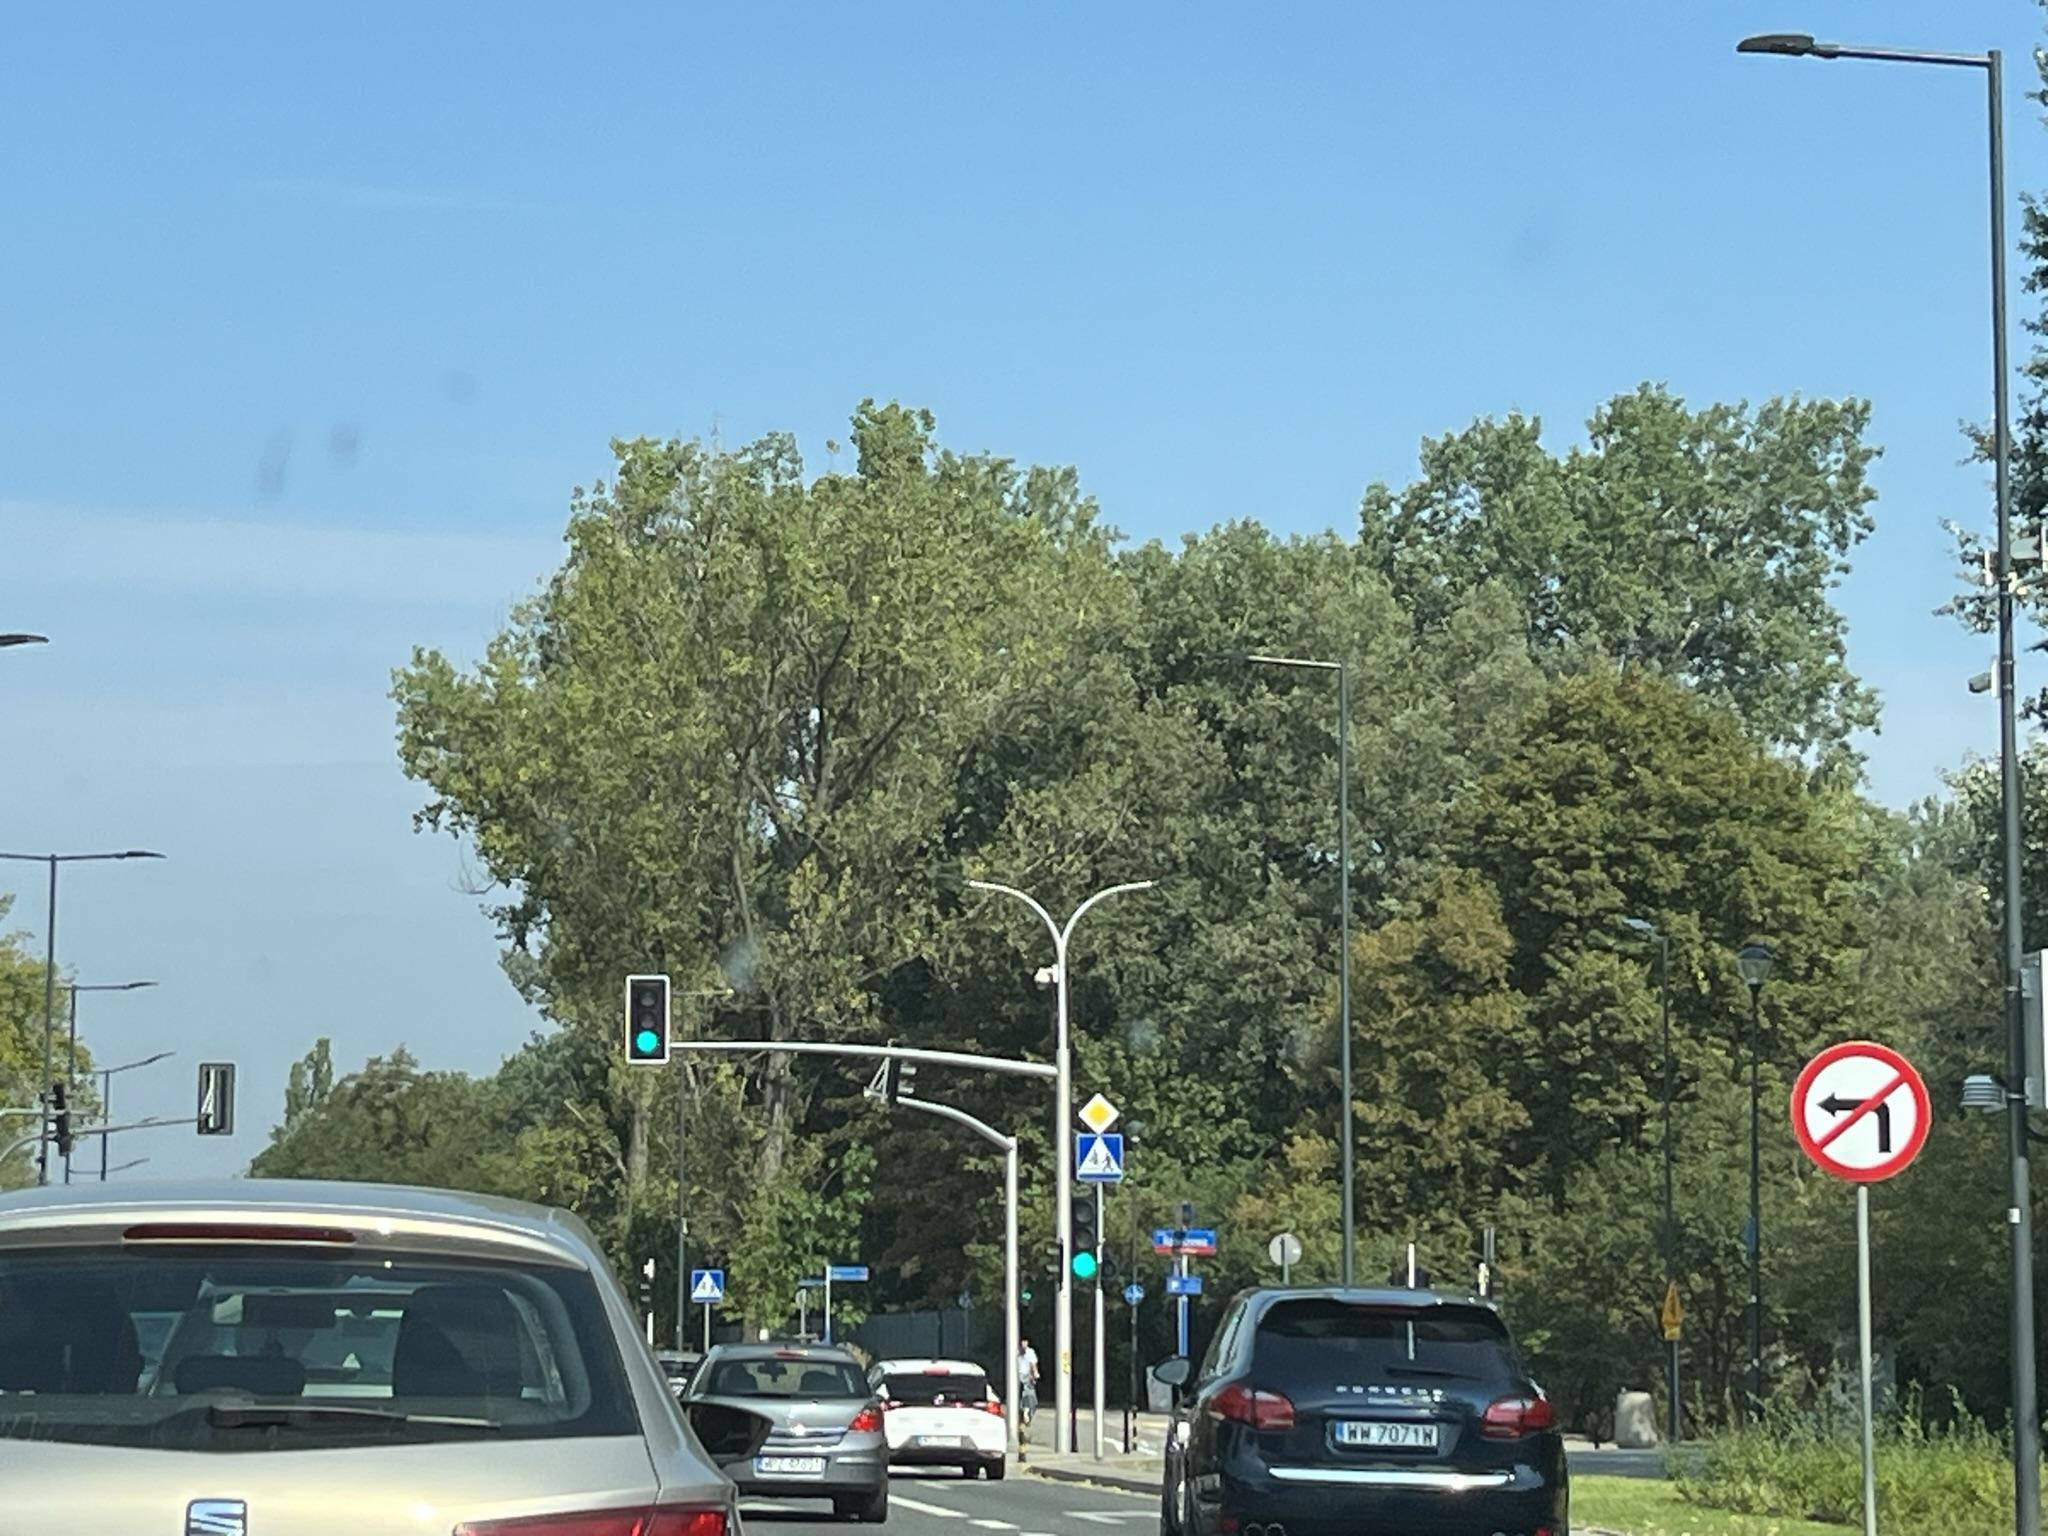information: (1076, 1134, 1124, 1179), (1077, 1092, 1122, 1134), (692, 1270, 722, 1302)
prohibitory: (1788, 1037, 1932, 1184)
